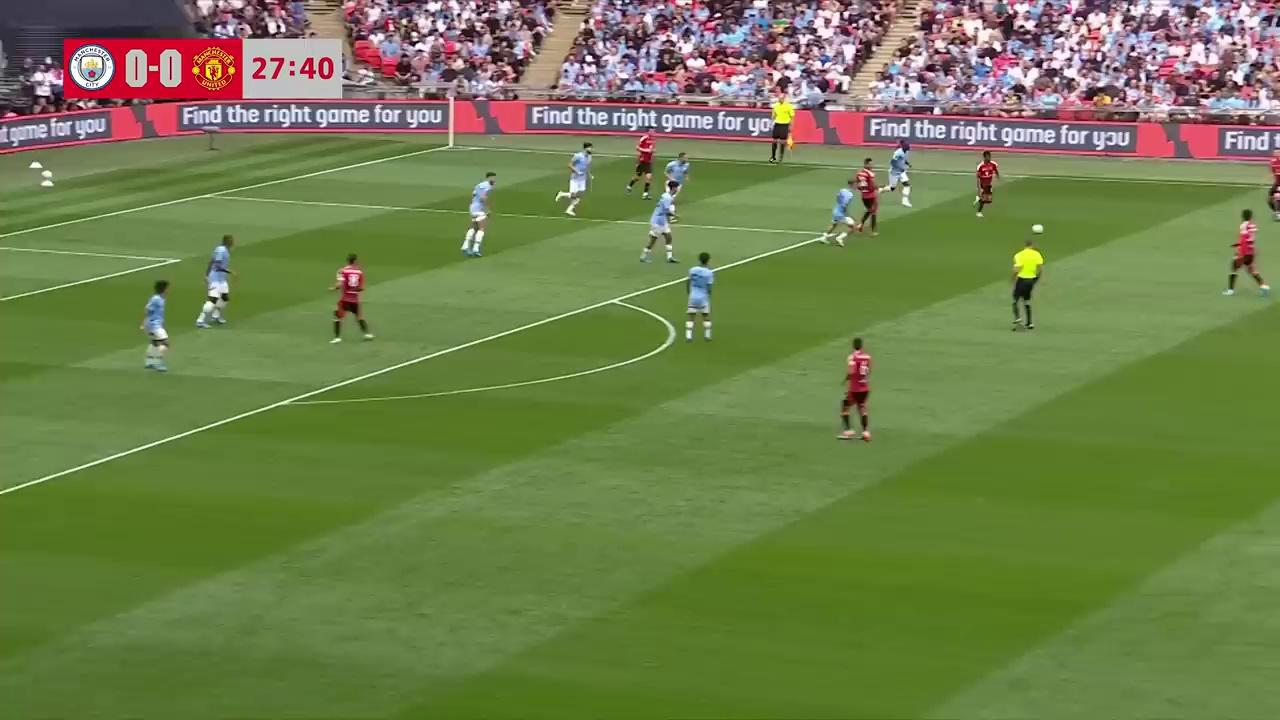ball: (1031, 219, 1045, 235)
player: (1223, 209, 1271, 297), (196, 233, 239, 328), (329, 253, 373, 343), (837, 337, 873, 442), (639, 182, 679, 267), (683, 252, 715, 343), (139, 280, 171, 371), (461, 172, 494, 256), (823, 178, 860, 248), (852, 157, 883, 237), (561, 143, 594, 217), (624, 135, 656, 197), (882, 146, 912, 207), (973, 153, 1000, 219), (663, 149, 690, 205), (1265, 150, 1280, 220)
referee: (1009, 238, 1043, 331), (769, 88, 801, 163)
